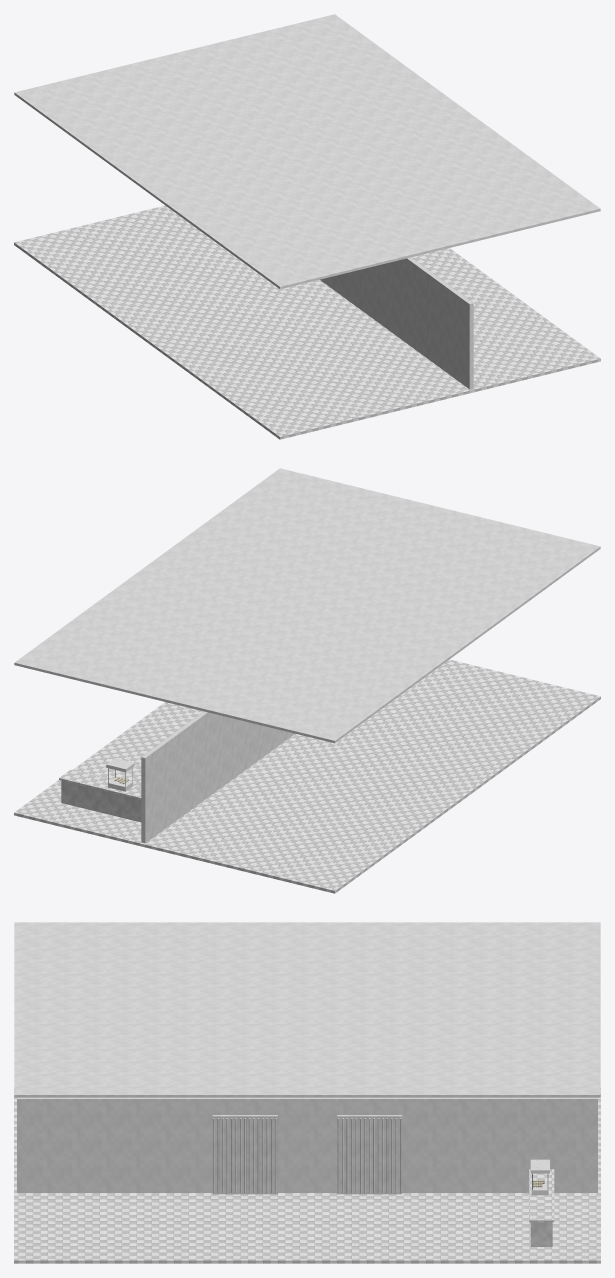
The model's file is SM_Town_Cinema_Interior.glb.
3 views of the same model, one above another, from view 1: azimuth 30°, elevation 25°; view 2: azimuth 150°, elevation 25°; view 3: azimuth 270°, elevation 25° (orthographic). The views are drawn at different scales.
Visible parts, largest first — view 1: SM_Town_Cinema_Interior; view 2: SM_Town_Cinema_Interior; view 3: SM_Town_Cinema_Interior.
Part boxes in pixels (<box>): SM_Town_Cinema_Interior: <box>14,14,600,439</box>; SM_Town_Cinema_Interior: <box>14,468,600,893</box>; SM_Town_Cinema_Interior: <box>14,922,600,1263</box>.
Bounding box in the file's own units: 13.8 × 6.27 × 19.8.
Materials: 9 (7 with a texture image).
